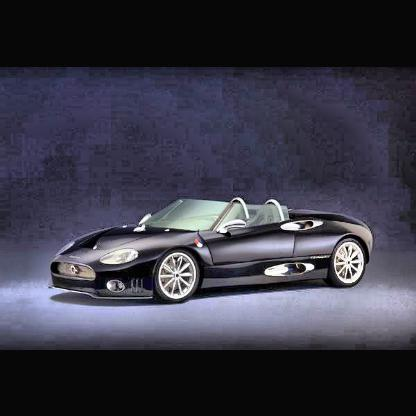Spyker C8 Convertible 2009: (48, 194, 381, 309)
